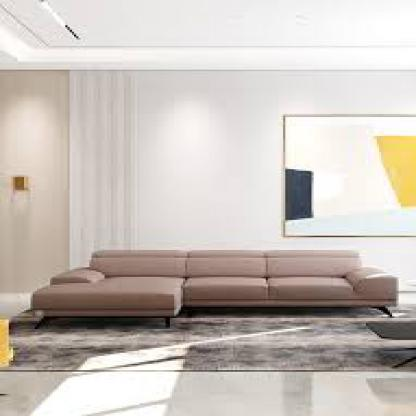sofa: (39, 251, 407, 320)
